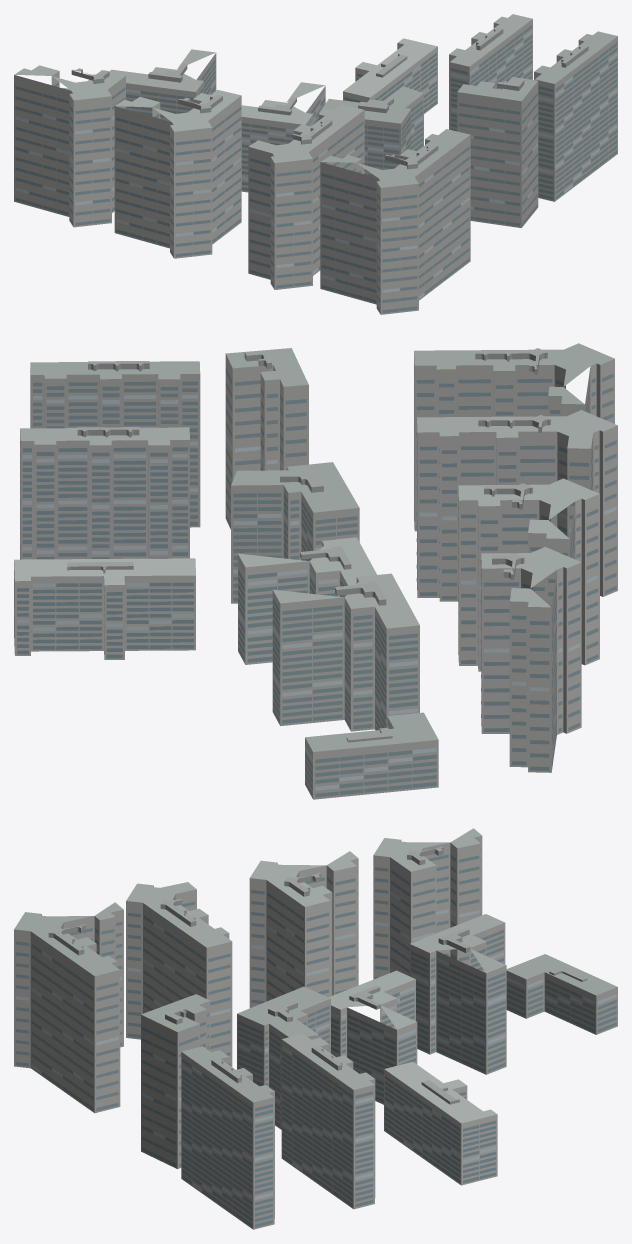
The model's file is apt-a10023547.glb.
3 views of the same model, one above another, from view 1: azimuth 30°, elevation 25°; view 2: azimuth 150°, elevation 25°; view 3: azimuth 270°, elevation 25° (orthographic). The views are drawn at different scales.
Parts seen in each view (by area): view 1: apt-a10023547; view 2: apt-a10023547; view 3: apt-a10023547.
Part boxes in pixels (<box>): apt-a10023547: <box>14,14,617,314</box>; apt-a10023547: <box>14,343,617,799</box>; apt-a10023547: <box>14,828,617,1229</box>.
Size of the model in its own units: 288 by 72 by 278.
